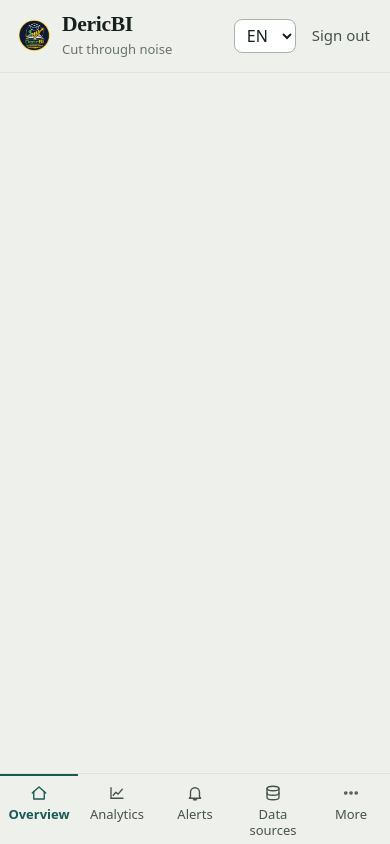
phone tab bar › puts the four main pages under the thumb, and everything else under More
The width and height of the screenshot is (390, 844).
Expected: the links read "Overview", "Analytics", "Alerts", "Data sources", in this order, [0, 774, 78, 830]; [90, 784, 144, 822]; [177, 784, 213, 822]; [250, 784, 296, 839]
Step 1. Click the button "More" → click(351, 802), box [312, 774, 389, 830]
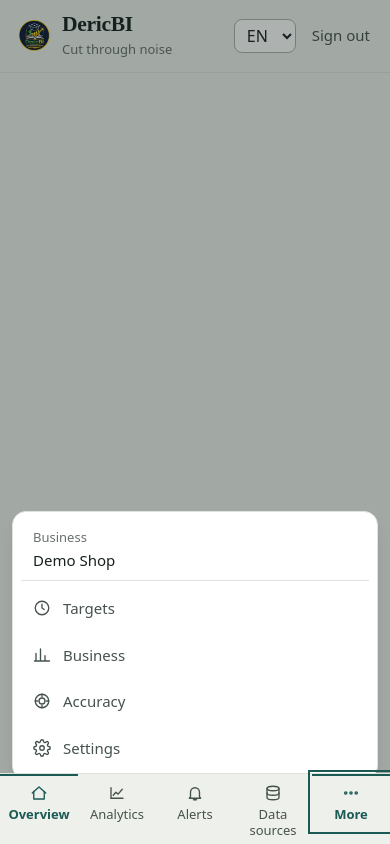
Now the links read "Targets", "Business", "Accuracy", "Settings", in this order, box [33, 598, 115, 618]; [33, 644, 125, 664]; [33, 691, 125, 711]; [33, 738, 120, 758]
